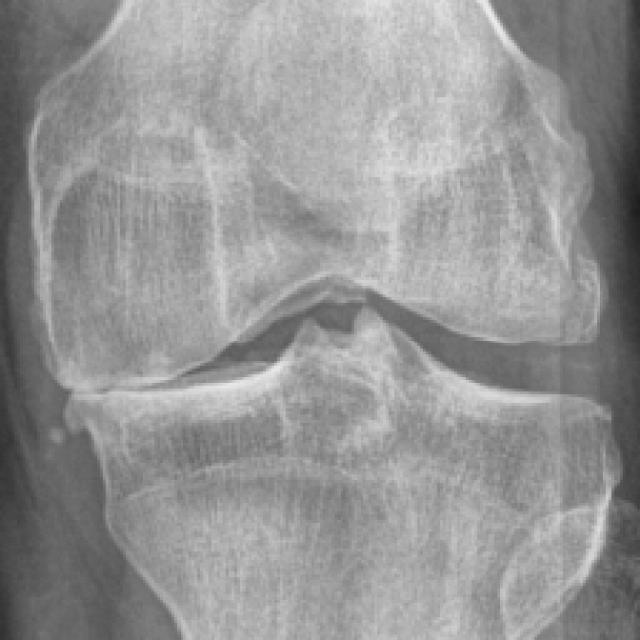femur: (34, 1, 597, 380)
tibia: (74, 309, 611, 637)
